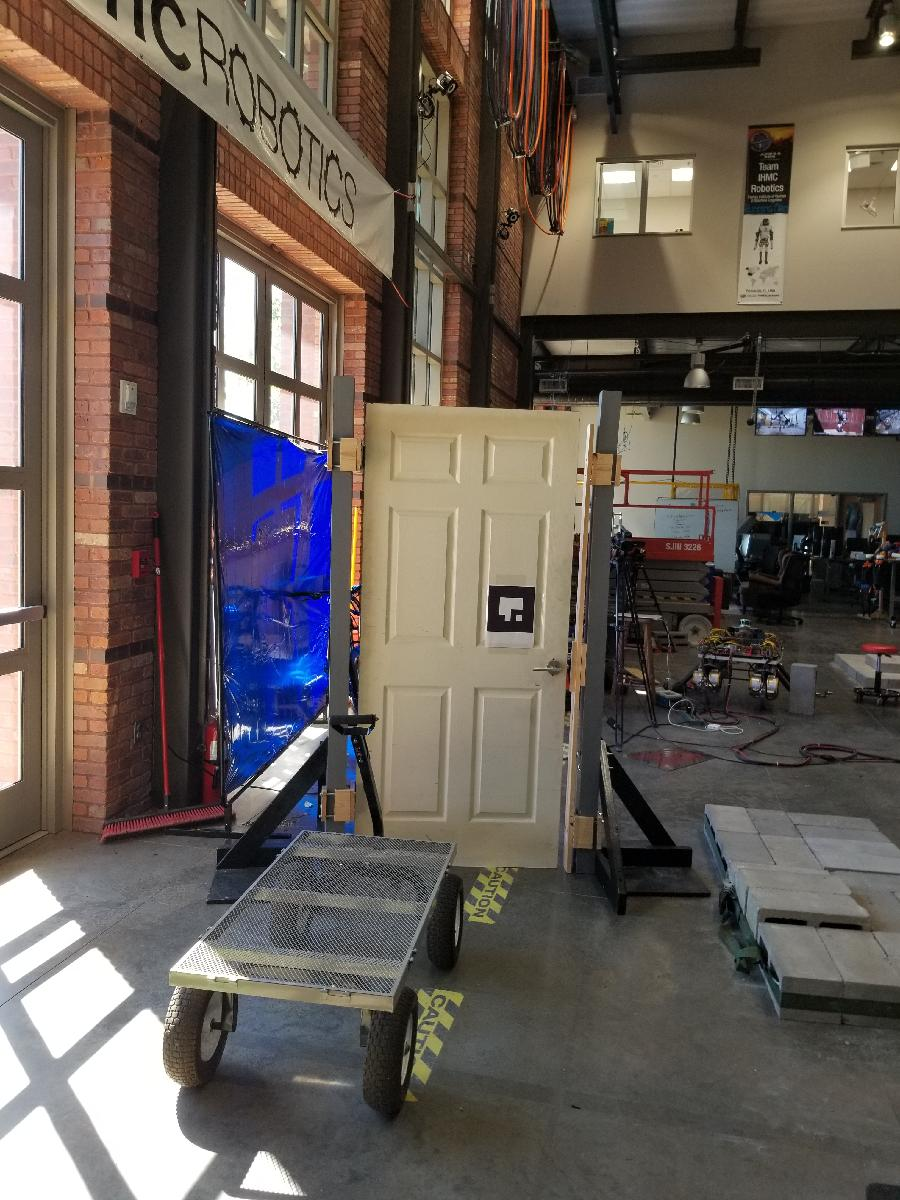door: (353, 399, 584, 881)
doorHandle: (529, 654, 565, 683)
